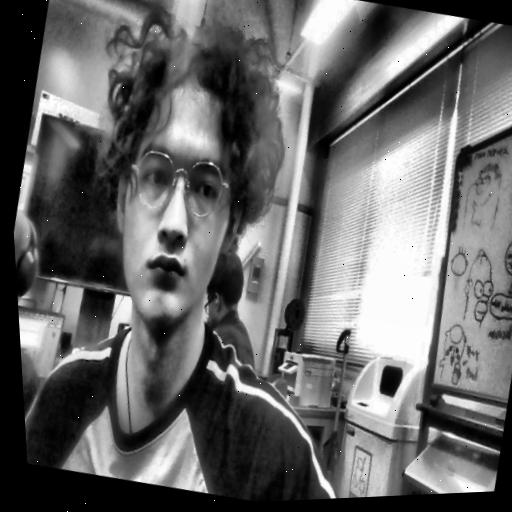Daifuku: (53, 0, 321, 352)
Not Daifuku: (12, 207, 53, 338), (198, 243, 255, 328)
